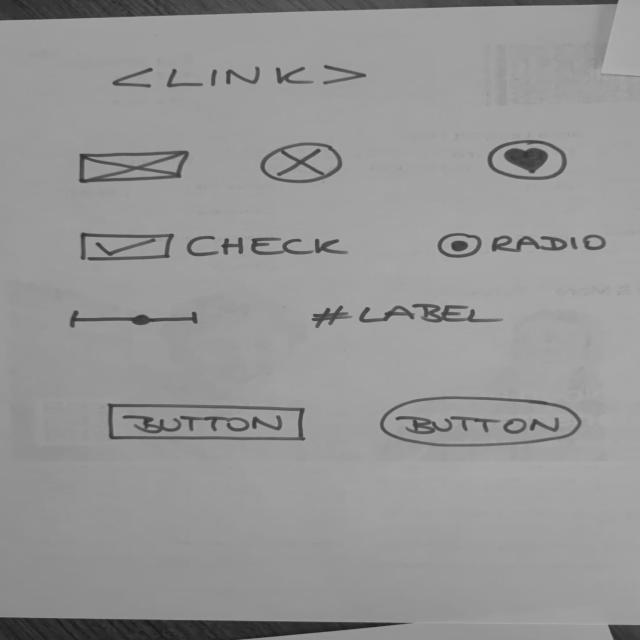button: (377, 396, 589, 452), (103, 401, 314, 445)
checkbox: (77, 229, 356, 265)
icon-button: (485, 136, 573, 182)
image: (73, 149, 195, 187), (259, 142, 346, 186)
label: (307, 301, 507, 331)
link: (110, 65, 374, 92)
radio: (434, 230, 614, 260)
slider: (63, 309, 207, 333)
